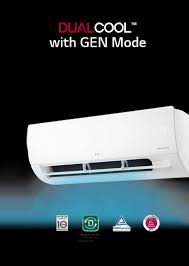ac: (23, 97, 189, 191)
